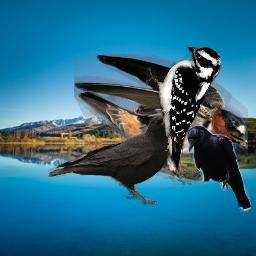Crow: (48, 115, 173, 205), (186, 125, 251, 213)
Swallow: (74, 54, 248, 185)
Woodpecker: (146, 47, 221, 173)
